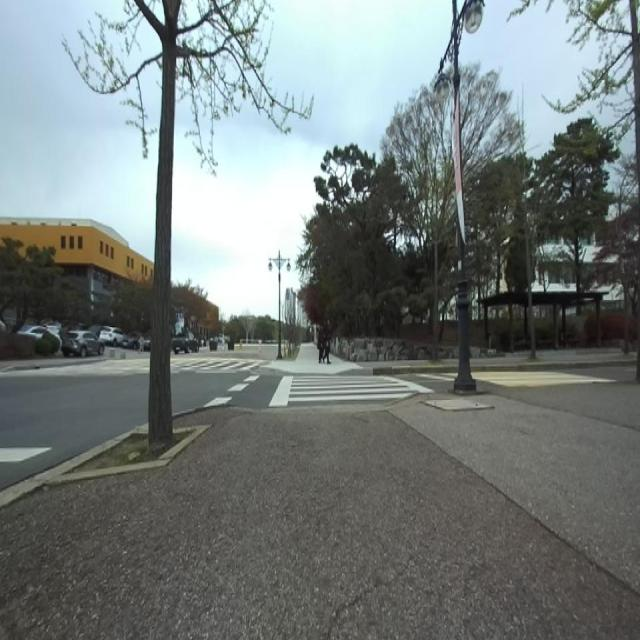sidewalk: (0, 407, 640, 639), (383, 381, 640, 601), (0, 431, 132, 507)
